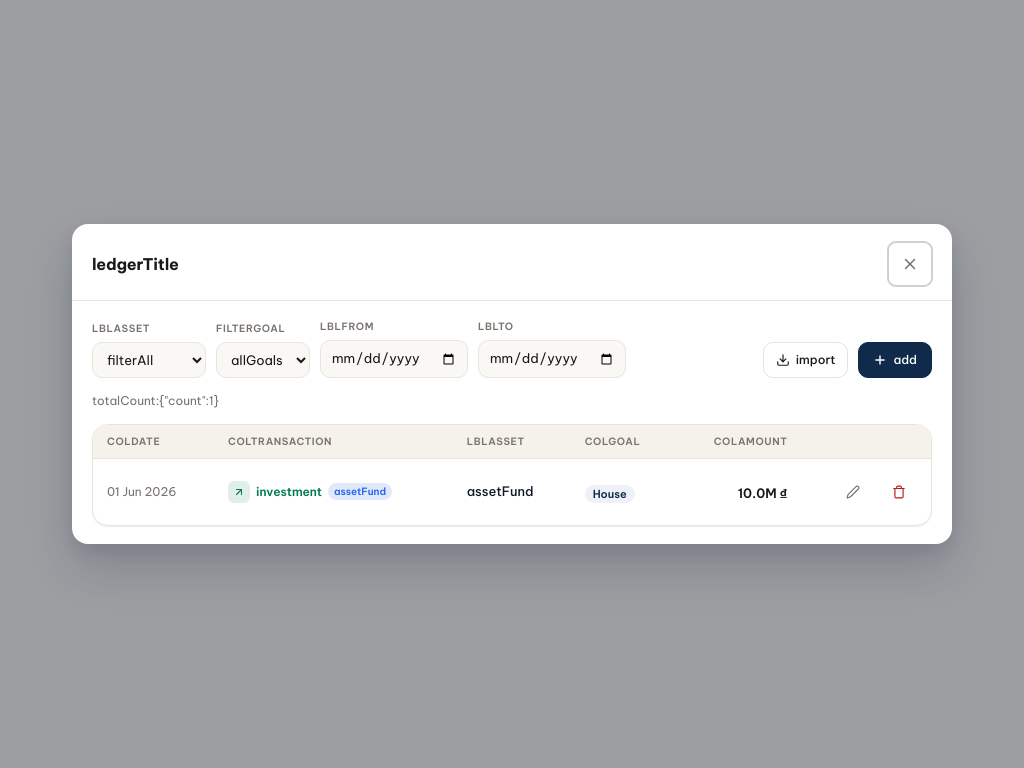
Scenario: TransactionLedgerSheet — deleting a deposit a recurring saving feeds › does not ask about a holding that could never carry a link
What coordinates should you click on to do the following:
click the button with test id "tx-ledger-delete"
I would click on:
 (899, 492)
Its box is [877,470,921,514].
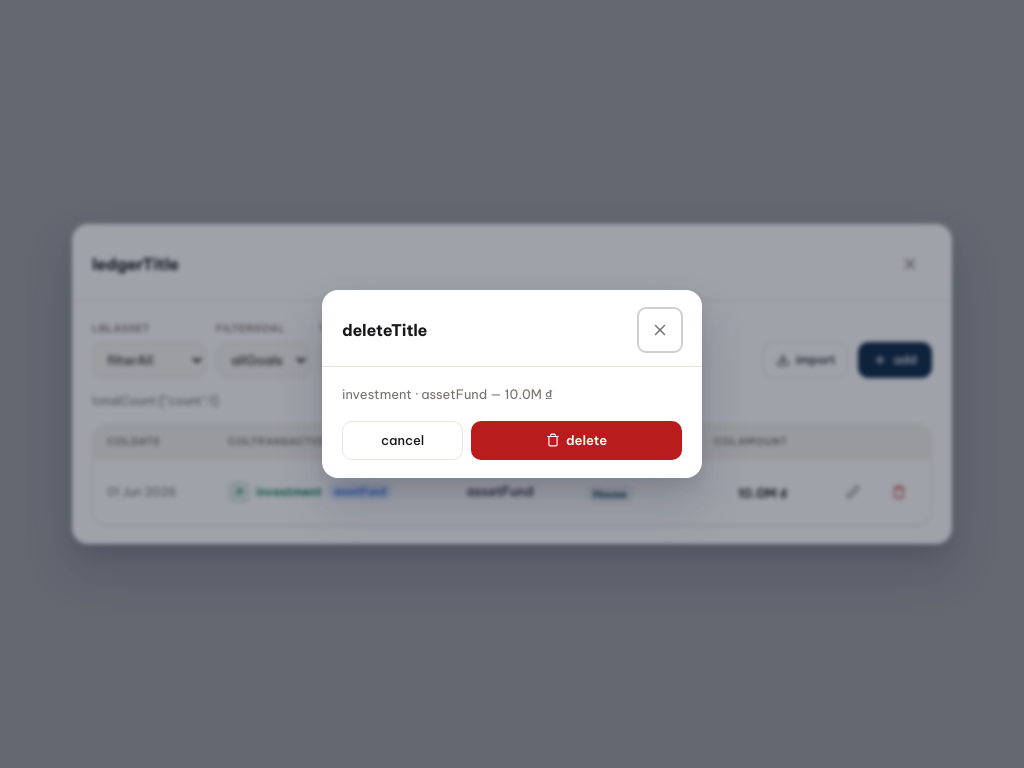
Check: the button with test id "tx-ledger-delete-confirm" is enabled, box [471,420,682,460]
